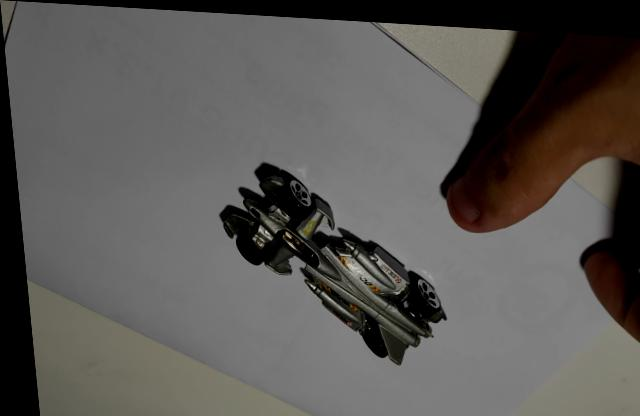05_DC121: (214, 158, 441, 359)
